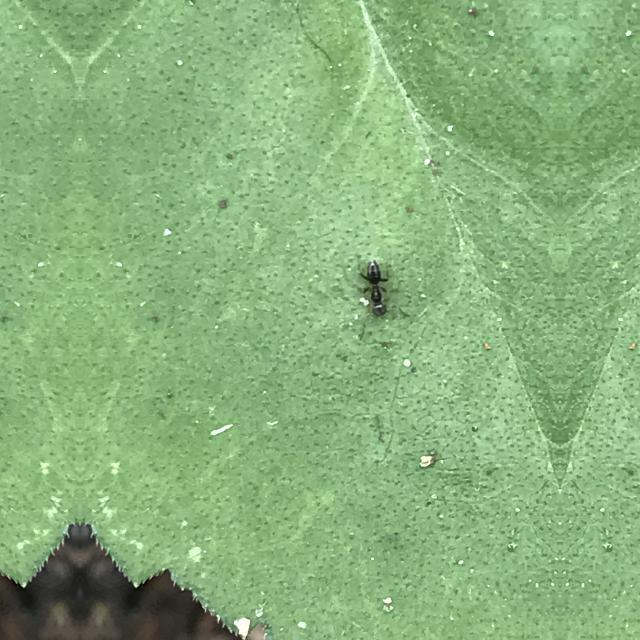Tapinoma: (354, 252, 392, 324)
